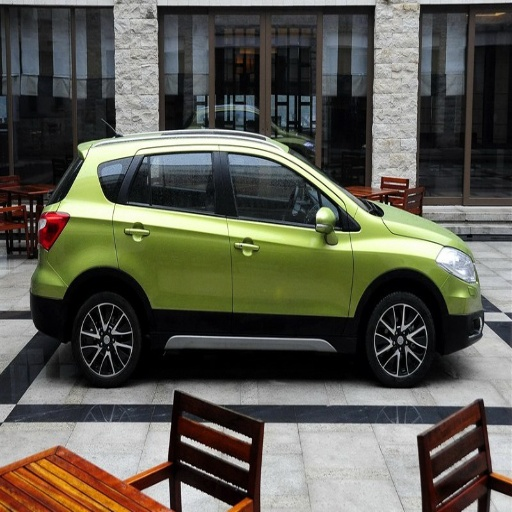back_right_door: (115, 144, 232, 333)
front_right_door: (223, 144, 352, 341)
